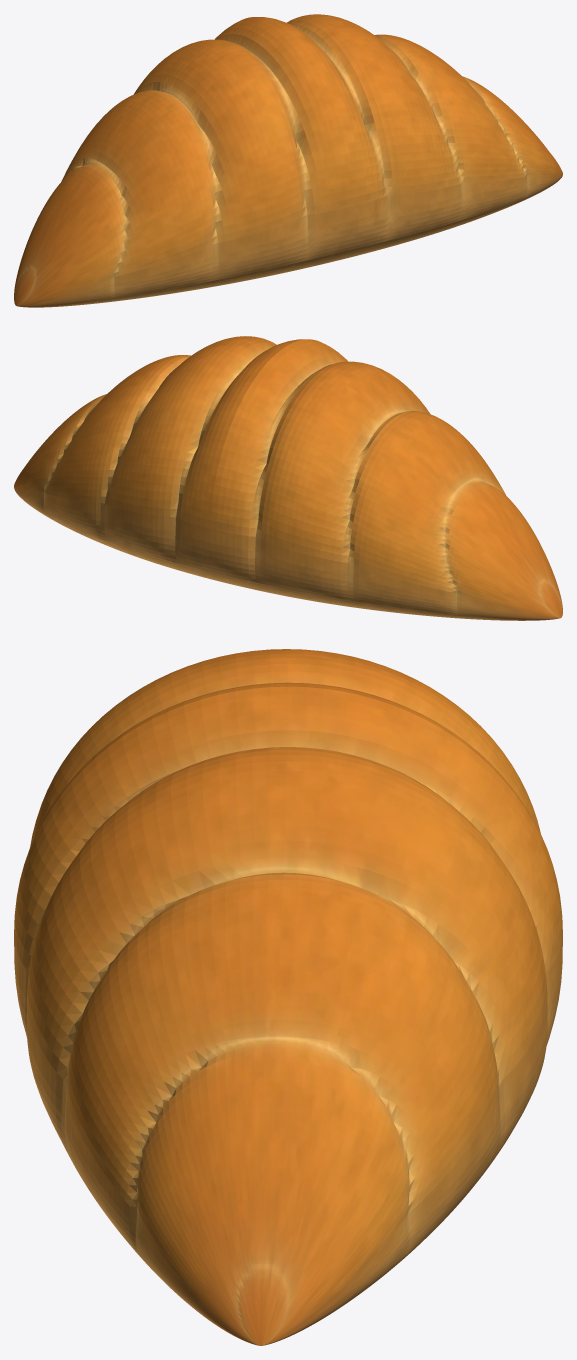
Rendered from croissant.glb.
3 views of the same model, one above another, from view 1: azimuth 30°, elevation 25°; view 2: azimuth 150°, elevation 25°; view 3: azimuth 270°, elevation 25° (orthographic). The views are drawn at different scales.
Parts seen in each view (by area): view 1: geometry_0; view 2: geometry_0; view 3: geometry_0.
Part boxes in pixels (x1=…): geometry_0: x1=14, y1=14, x2=562, y2=307; geometry_0: x1=14, y1=336, x2=562, y2=620; geometry_0: x1=14, y1=649, x2=562, y2=1345.
Size of the model in its own units: 0.138 by 0.05 by 0.062.
Materials: 1 (1 with a texture image).
